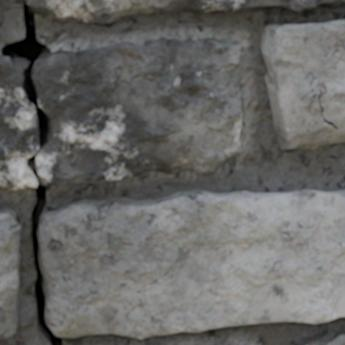brick: (38, 189, 344, 338), (262, 20, 344, 149), (27, 0, 344, 24), (0, 210, 20, 339), (306, 332, 344, 344), (0, 9, 3, 24)
broken_brick: (34, 37, 243, 186), (0, 57, 36, 191)
crack: (0, 0, 65, 344)
